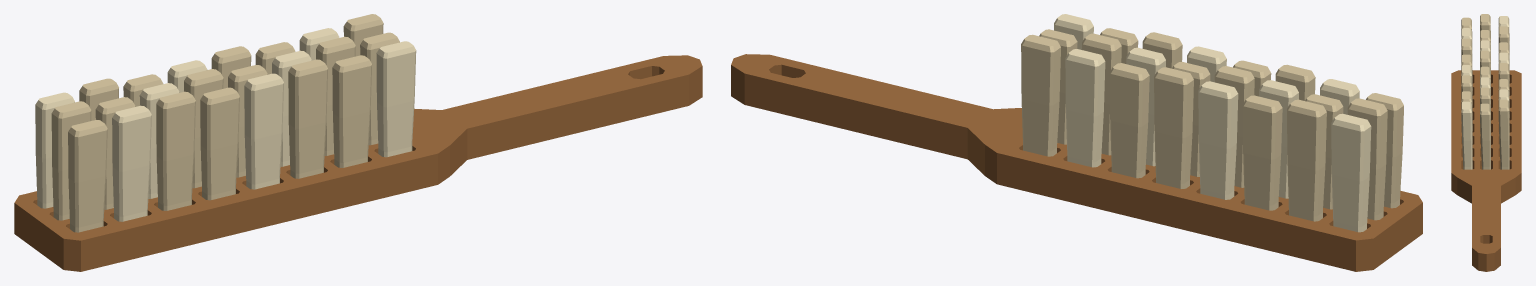
3 renders of one model, left to right at view 1: azimuth 30°, elevation 25°; view 2: azimuth 150°, elevation 25°; view 3: azimuth 270°, elevation 25°, orthographic. The views are drawn at different scales.
Parts seen in each view (by area): view 1: ContinuousLongBackAndHandle, Tuft_R1_C6, Tuft_R1_C3, Tuft_R1_C8, Tuft_R1_C5, Tuft_R1_C2, Tuft_R1_C7, Tuft_R1_C4, Tuft_R1_C1, Tuft_R2_C1, Tuft_R3_C1, Tuft_R2_C4 (+13 smaller); view 2: ContinuousLongBackAndHandle, Tuft_R3_C8, Tuft_R3_C2, Tuft_R3_C5, Tuft_R3_C4, Tuft_R3_C7, Tuft_R3_C1, Tuft_R3_C3, Tuft_R3_C6, Tuft_R2_C1, Tuft_R1_C1, Tuft_R2_C4 (+13 smaller); view 3: ContinuousLongBackAndHandle, Tuft_R3_C8, Tuft_R1_C8, Tuft_R2_C8, Tuft_R3_C2, Tuft_R1_C3, Tuft_R1_C6, Tuft_R3_C5, Tuft_R2_C7, Tuft_R2_C4, Tuft_R2_C1, Tuft_R1_C1 (+13 smaller).
Boxes of the visible parts, x1,y1,x2,y2 form: ContinuousLongBackAndHandle: (14, 55, 702, 271); Tuft_R1_C6: (288, 59, 327, 178); Tuft_R1_C3: (156, 91, 195, 210); Tuft_R1_C8: (376, 41, 416, 157); Tuft_R1_C5: (244, 73, 283, 189); Tuft_R1_C2: (112, 105, 151, 221); Tuft_R1_C7: (332, 55, 372, 167); Tuft_R1_C4: (200, 87, 239, 200); Tuft_R1_C1: (68, 120, 107, 232); Tuft_R2_C1: (51, 101, 91, 220); Tuft_R3_C1: (35, 92, 74, 208); Tuft_R2_C4: (184, 69, 223, 188); ContinuousLongBackAndHandle: (731, 54, 1422, 271); Tuft_R3_C8: (1021, 34, 1060, 156); Tuft_R3_C2: (1287, 99, 1326, 221); Tuft_R3_C5: (1154, 67, 1193, 188); Tuft_R3_C4: (1198, 81, 1238, 199); Tuft_R3_C7: (1065, 49, 1105, 167); Tuft_R3_C1: (1331, 113, 1371, 232); Tuft_R3_C3: (1242, 95, 1282, 210); Tuft_R3_C6: (1109, 63, 1149, 178); Tuft_R2_C1: (1347, 98, 1387, 220); Tuft_R1_C1: (1366, 93, 1403, 208); Tuft_R2_C4: (1214, 66, 1254, 187); ContinuousLongBackAndHandle: (1451, 70, 1521, 271); Tuft_R3_C8: (1498, 99, 1509, 169); Tuft_R1_C8: (1461, 101, 1472, 169); Tuft_R2_C8: (1480, 103, 1490, 169); Tuft_R3_C2: (1498, 26, 1509, 58); Tuft_R1_C3: (1461, 38, 1472, 106); Tuft_R1_C6: (1461, 75, 1472, 142); Tuft_R3_C5: (1498, 63, 1509, 94); Tuft_R2_C7: (1480, 87, 1490, 118); Tuft_R2_C4: (1480, 50, 1490, 81); Tuft_R2_C1: (1480, 14, 1490, 44); Tuft_R1_C1: (1461, 17, 1472, 81).
Bounding box in the file's own units: 0.42 × 0.084 × 0.068.
